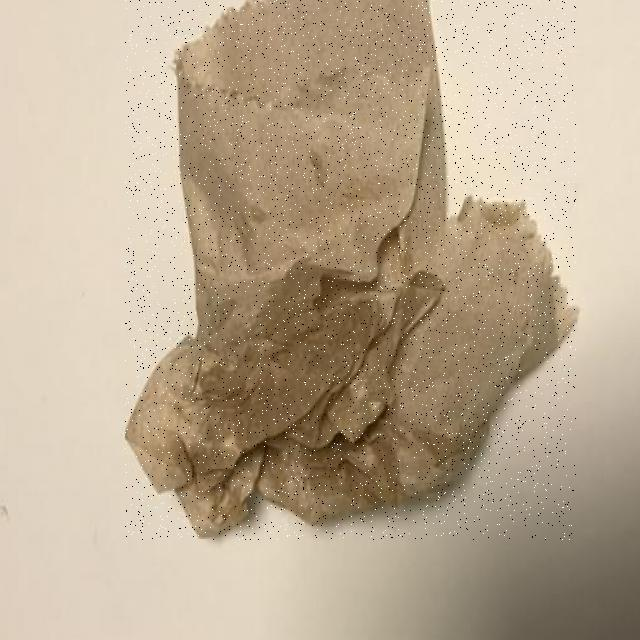paper: (126, 0, 576, 540)
